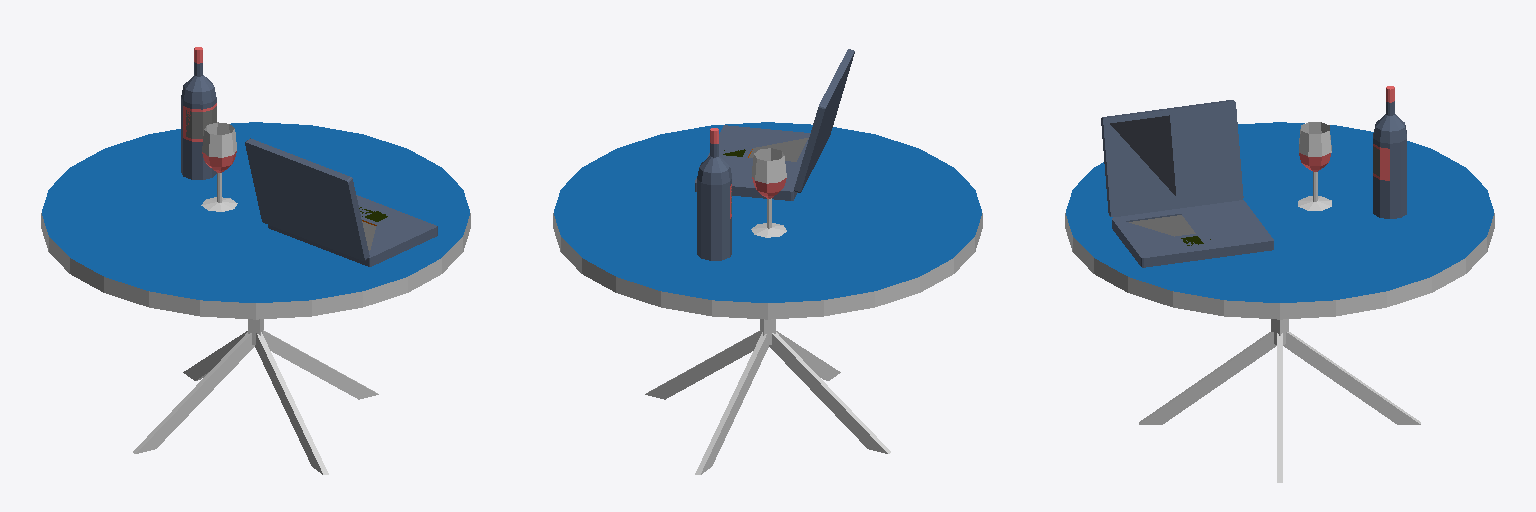
Rendered from mesa.obj.
3 renders of one model, left to right at view 1: azimuth 30°, elevation 25°; view 2: azimuth 150°, elevation 25°; view 3: azimuth 270°, elevation 25°, orthographic.
Visible parts, largest first — view 1: Mesh11 Table_Coffee_Glass_Round3_1 Model, Mesh15 top1 Computer_Laptop_Black1 Model, Mesh16 top2 Computer_Laptop_Black1 Model, Mesh14 bottom2 Computer_Laptop_Black1 Model, Mesh1 Component_2_1 Dishes_Bottle_Wine1 Model, Mesh9 Group_10_3 Table_Coffee_Glass_Round3_1 Model, Mesh8 Group_10_2 Table_Coffee_Glass_Round3_1 Model, Mesh7 Group_10_1 Table_Coffee_Glass_Round3_1 Model, Mesh4 Component_1_2 Dishes_Glass_Wine1 Model, Mesh10 Group_10_4 Table_Coffee_Glass_Round3_1 Model, Mesh2 Component_2_2 Dishes_Bottle_Wine1 Model; view 2: Mesh11 Table_Coffee_Glass_Round3_1 Model, Mesh1 Component_2_1 Dishes_Bottle_Wine1 Model, Mesh9 Group_10_3 Table_Coffee_Glass_Round3_1 Model, Mesh10 Group_10_4 Table_Coffee_Glass_Round3_1 Model, Mesh7 Group_10_1 Table_Coffee_Glass_Round3_1 Model, Mesh14 bottom2 Computer_Laptop_Black1 Model, Mesh13 bottom1 Computer_Laptop_Black1 Model, Mesh16 top2 Computer_Laptop_Black1 Model, Mesh2 Component_2_2 Dishes_Bottle_Wine1 Model, Mesh3 Component_1_1 Dishes_Glass_Wine1 Model, Mesh15 top1 Computer_Laptop_Black1 Model, Mesh8 Group_10_2 Table_Coffee_Glass_Round3_1 Model (+1 smaller); view 3: Mesh11 Table_Coffee_Glass_Round3_1 Model, Mesh15 top1 Computer_Laptop_Black1 Model, Mesh16 top2 Computer_Laptop_Black1 Model, Mesh13 bottom1 Computer_Laptop_Black1 Model, Mesh2 Component_2_2 Dishes_Bottle_Wine1 Model, Mesh14 bottom2 Computer_Laptop_Black1 Model, Mesh8 Group_10_2 Table_Coffee_Glass_Round3_1 Model, Mesh10 Group_10_4 Table_Coffee_Glass_Round3_1 Model, Mesh7 Group_10_1 Table_Coffee_Glass_Round3_1 Model, Mesh17 Computer_Laptop_Black1 Model, Mesh6 Component_1_4 Dishes_Glass_Wine1 Model, Mesh5 Component_1_3 Dishes_Glass_Wine1 Model.
Boxes of the visible parts, box(x1,y1,x2,y2) form: Mesh11 Table_Coffee_Glass_Round3_1 Model: box(41, 122, 470, 319); Mesh15 top1 Computer_Laptop_Black1 Model: box(296, 158, 369, 260); Mesh16 top2 Computer_Laptop_Black1 Model: box(245, 138, 313, 241); Mesh14 bottom2 Computer_Laptop_Black1 Model: box(319, 207, 437, 266); Mesh1 Component_2_1 Dishes_Bottle_Wine1 Model: box(181, 47, 206, 179); Mesh9 Group_10_3 Table_Coffee_Glass_Round3_1 Model: box(133, 332, 254, 453); Mesh8 Group_10_2 Table_Coffee_Glass_Round3_1 Model: box(255, 332, 328, 474); Mesh7 Group_10_1 Table_Coffee_Glass_Round3_1 Model: box(263, 330, 378, 399); Mesh4 Component_1_2 Dishes_Glass_Wine1 Model: box(205, 132, 227, 211); Mesh10 Group_10_4 Table_Coffee_Glass_Round3_1 Model: box(183, 331, 247, 380); Mesh2 Component_2_2 Dishes_Bottle_Wine1 Model: box(197, 47, 216, 178); Mesh11 Table_Coffee_Glass_Round3_1 Model: box(553, 122, 982, 319); Mesh1 Component_2_1 Dishes_Bottle_Wine1 Model: box(706, 128, 731, 260); Mesh9 Group_10_3 Table_Coffee_Glass_Round3_1 Model: box(769, 332, 890, 453); Mesh10 Group_10_4 Table_Coffee_Glass_Round3_1 Model: box(695, 332, 768, 474); Mesh7 Group_10_1 Table_Coffee_Glass_Round3_1 Model: box(645, 330, 760, 399); Mesh14 bottom2 Computer_Laptop_Black1 Model: box(709, 125, 810, 161); Mesh13 bottom1 Computer_Laptop_Black1 Model: box(695, 154, 801, 200); Mesh16 top2 Computer_Laptop_Black1 Model: box(794, 77, 840, 192); Mesh2 Component_2_2 Dishes_Bottle_Wine1 Model: box(697, 128, 715, 259); Mesh3 Component_1_1 Dishes_Glass_Wine1 Model: box(761, 158, 783, 237); Mesh15 top1 Computer_Laptop_Black1 Model: box(815, 49, 854, 164); Mesh8 Group_10_2 Table_Coffee_Glass_Round3_1 Model: box(776, 331, 840, 380); Mesh11 Table_Coffee_Glass_Round3_1 Model: box(1065, 122, 1494, 319); Mesh15 top1 Computer_Laptop_Black1 Model: box(1101, 109, 1176, 216); Mesh16 top2 Computer_Laptop_Black1 Model: box(1167, 100, 1243, 208); Mesh13 bottom1 Computer_Laptop_Black1 Model: box(1178, 200, 1273, 258); Mesh2 Component_2_2 Dishes_Bottle_Wine1 Model: box(1373, 88, 1406, 218); Mesh14 bottom2 Computer_Laptop_Black1 Model: box(1112, 209, 1207, 267); Mesh8 Group_10_2 Table_Coffee_Glass_Round3_1 Model: box(1139, 332, 1276, 424); Mesh10 Group_10_4 Table_Coffee_Glass_Round3_1 Model: box(1283, 332, 1420, 424); Mesh7 Group_10_1 Table_Coffee_Glass_Round3_1 Model: box(1277, 333, 1282, 482); Mesh17 Computer_Laptop_Black1 Model: box(1129, 215, 1195, 236); Mesh6 Component_1_4 Dishes_Glass_Wine1 Model: box(1315, 131, 1331, 210); Mesh5 Component_1_3 Dishes_Glass_Wine1 Model: box(1298, 131, 1314, 210).
Bounding box in the file's own units: 36 × 31 × 36.